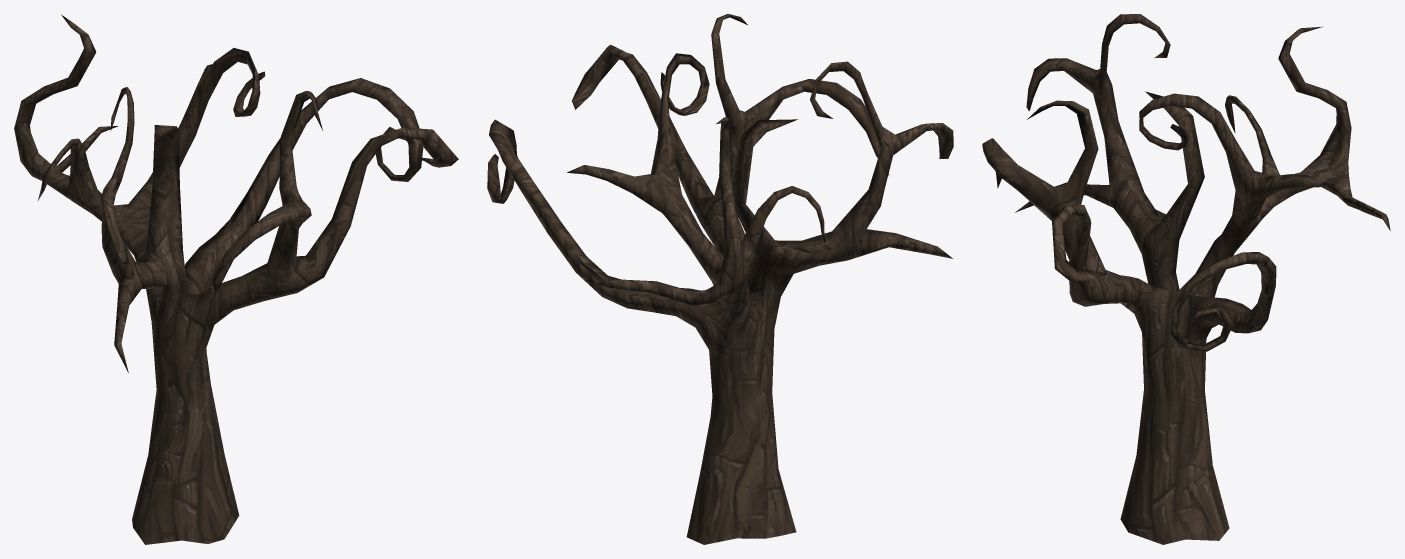
File: BranchedTree.fbx
The picture shows the model from 3 angles, left to right: view 1: azimuth 30°, elevation 25°; view 2: azimuth 150°, elevation 25°; view 3: azimuth 270°, elevation 25°; orthographic projection.
Parts seen in each view (by area): view 1: Tree_Type0_02_mesh; view 2: Tree_Type0_02_mesh; view 3: Tree_Type0_02_mesh.
Part boxes in pixels (x1,y1,x2,y2): Tree_Type0_02_mesh: (14,14,458,544); Tree_Type0_02_mesh: (487,14,953,544); Tree_Type0_02_mesh: (982,14,1390,544).
Size of the model in its own units: 521 by 612 by 477.
